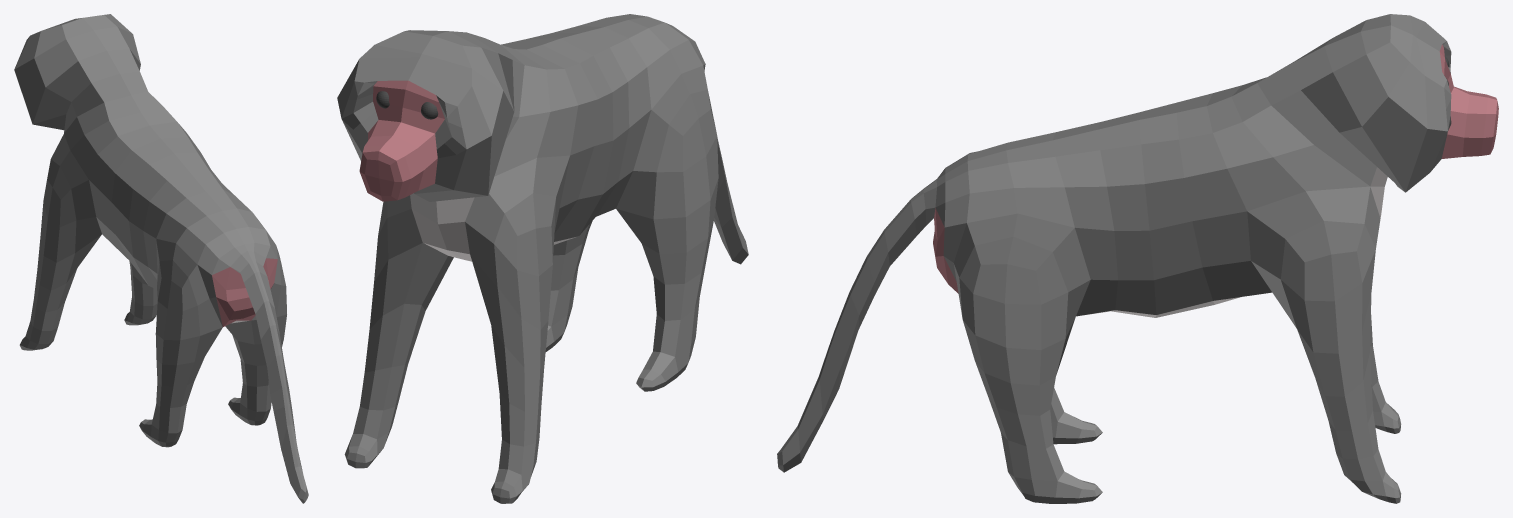
Rendered from monkey.glb.
3 views of the same model, side by side, from view 1: azimuth 30°, elevation 25°; view 2: azimuth 150°, elevation 25°; view 3: azimuth 270°, elevation 25° (orthographic). The views are drawn at different scales.
Parts seen in each view (by area): view 1: Cube; view 2: Cube; view 3: Cube.
Boxes of the visible parts, box(x1,y1,x2,y2) form: Cube: box(14, 14, 308, 503); Cube: box(337, 14, 748, 503); Cube: box(777, 14, 1498, 503).
Size of the model in its own units: 4.16 by 10.34 by 15.12.
